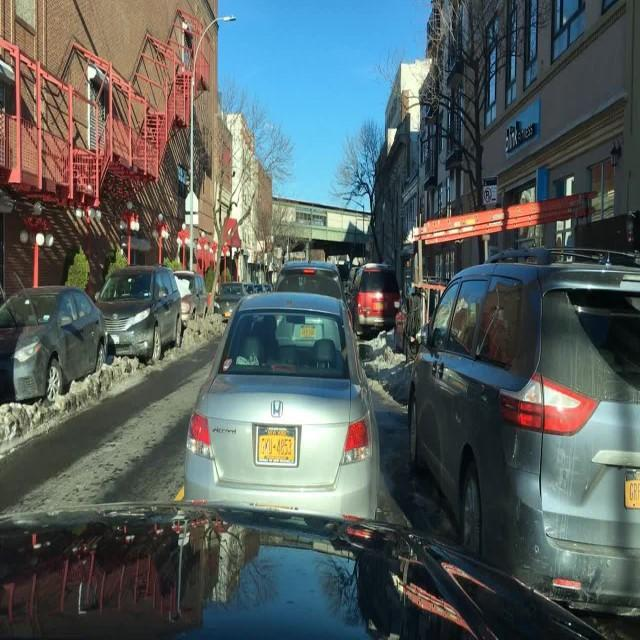multiple_accident: (175, 247, 395, 543)
